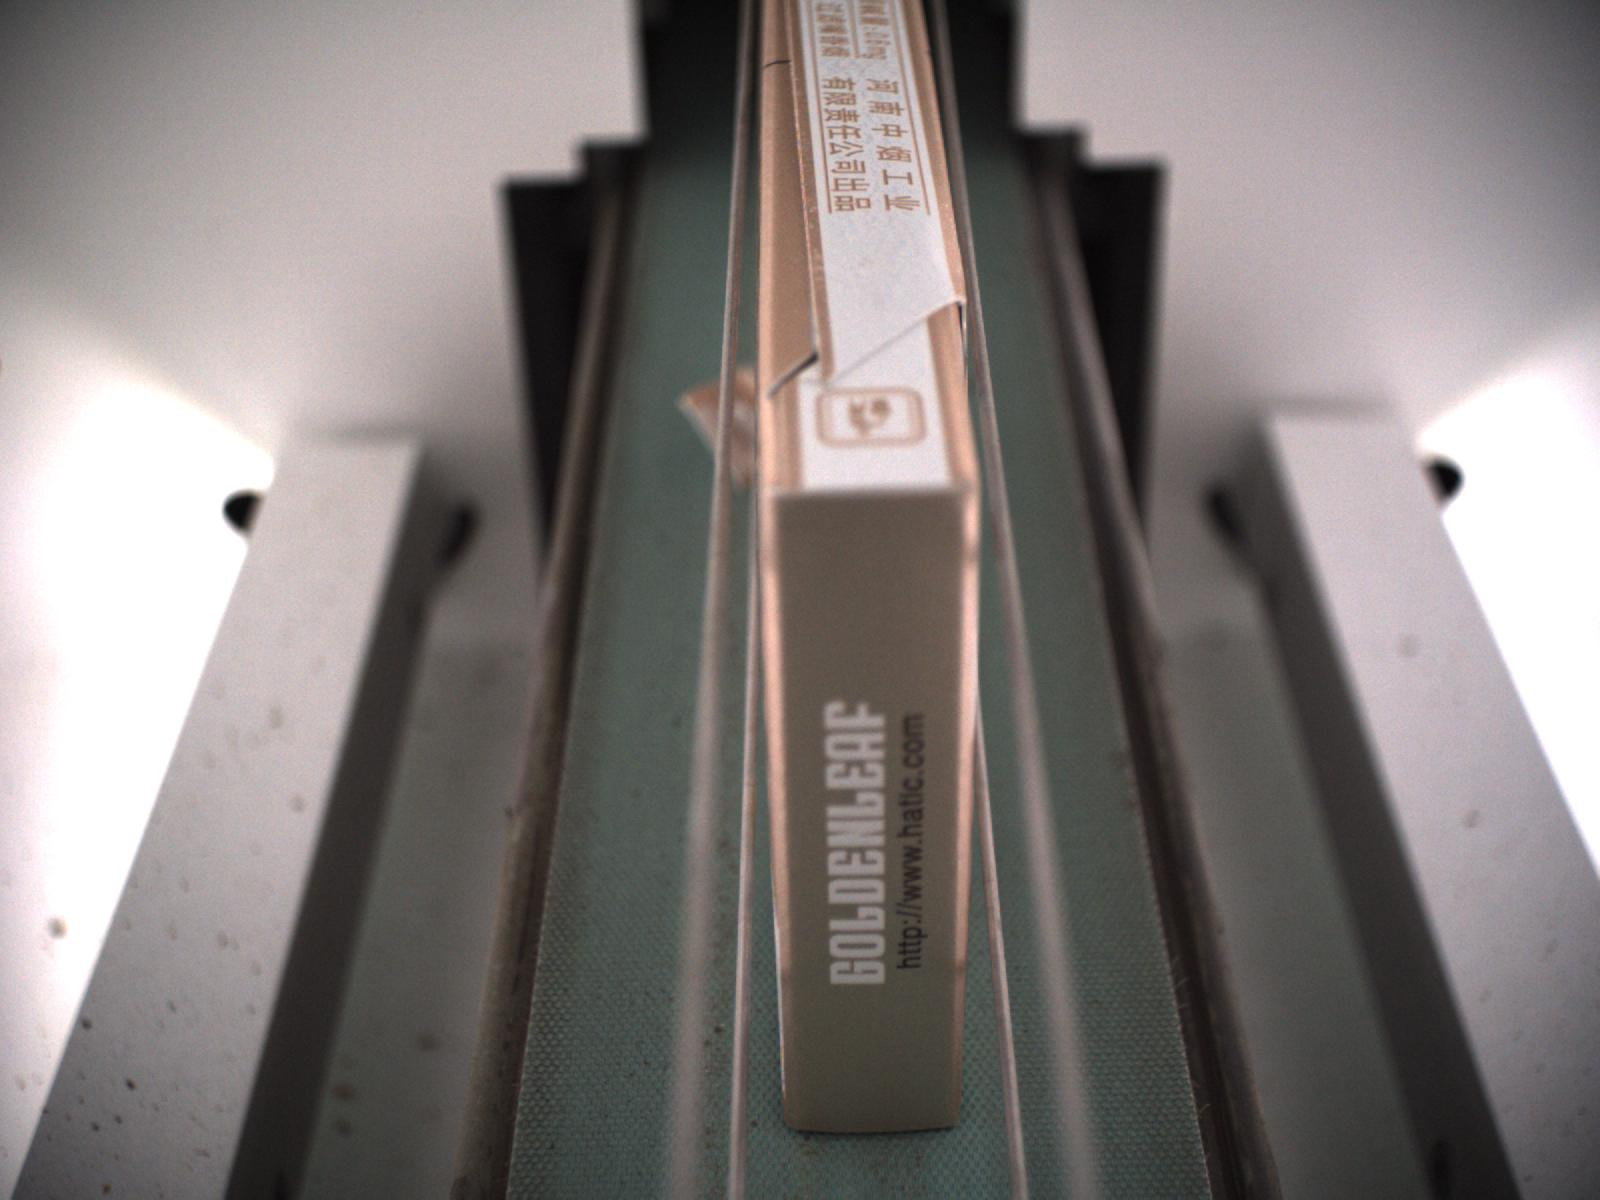boxDamage_back_heavy: (758, 19, 842, 403)
